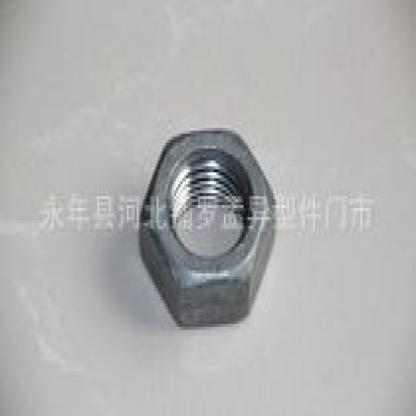FOD: (137, 126, 277, 334)
